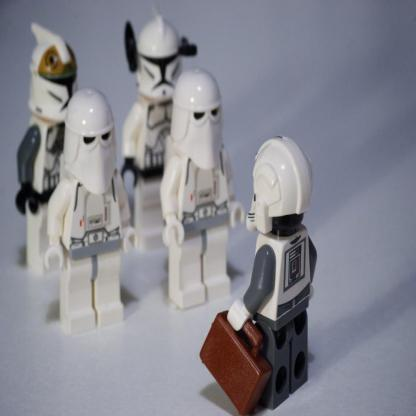Helmet: (246, 134, 311, 241), (61, 83, 118, 168), (29, 29, 78, 117), (138, 14, 187, 98), (171, 64, 221, 146)
